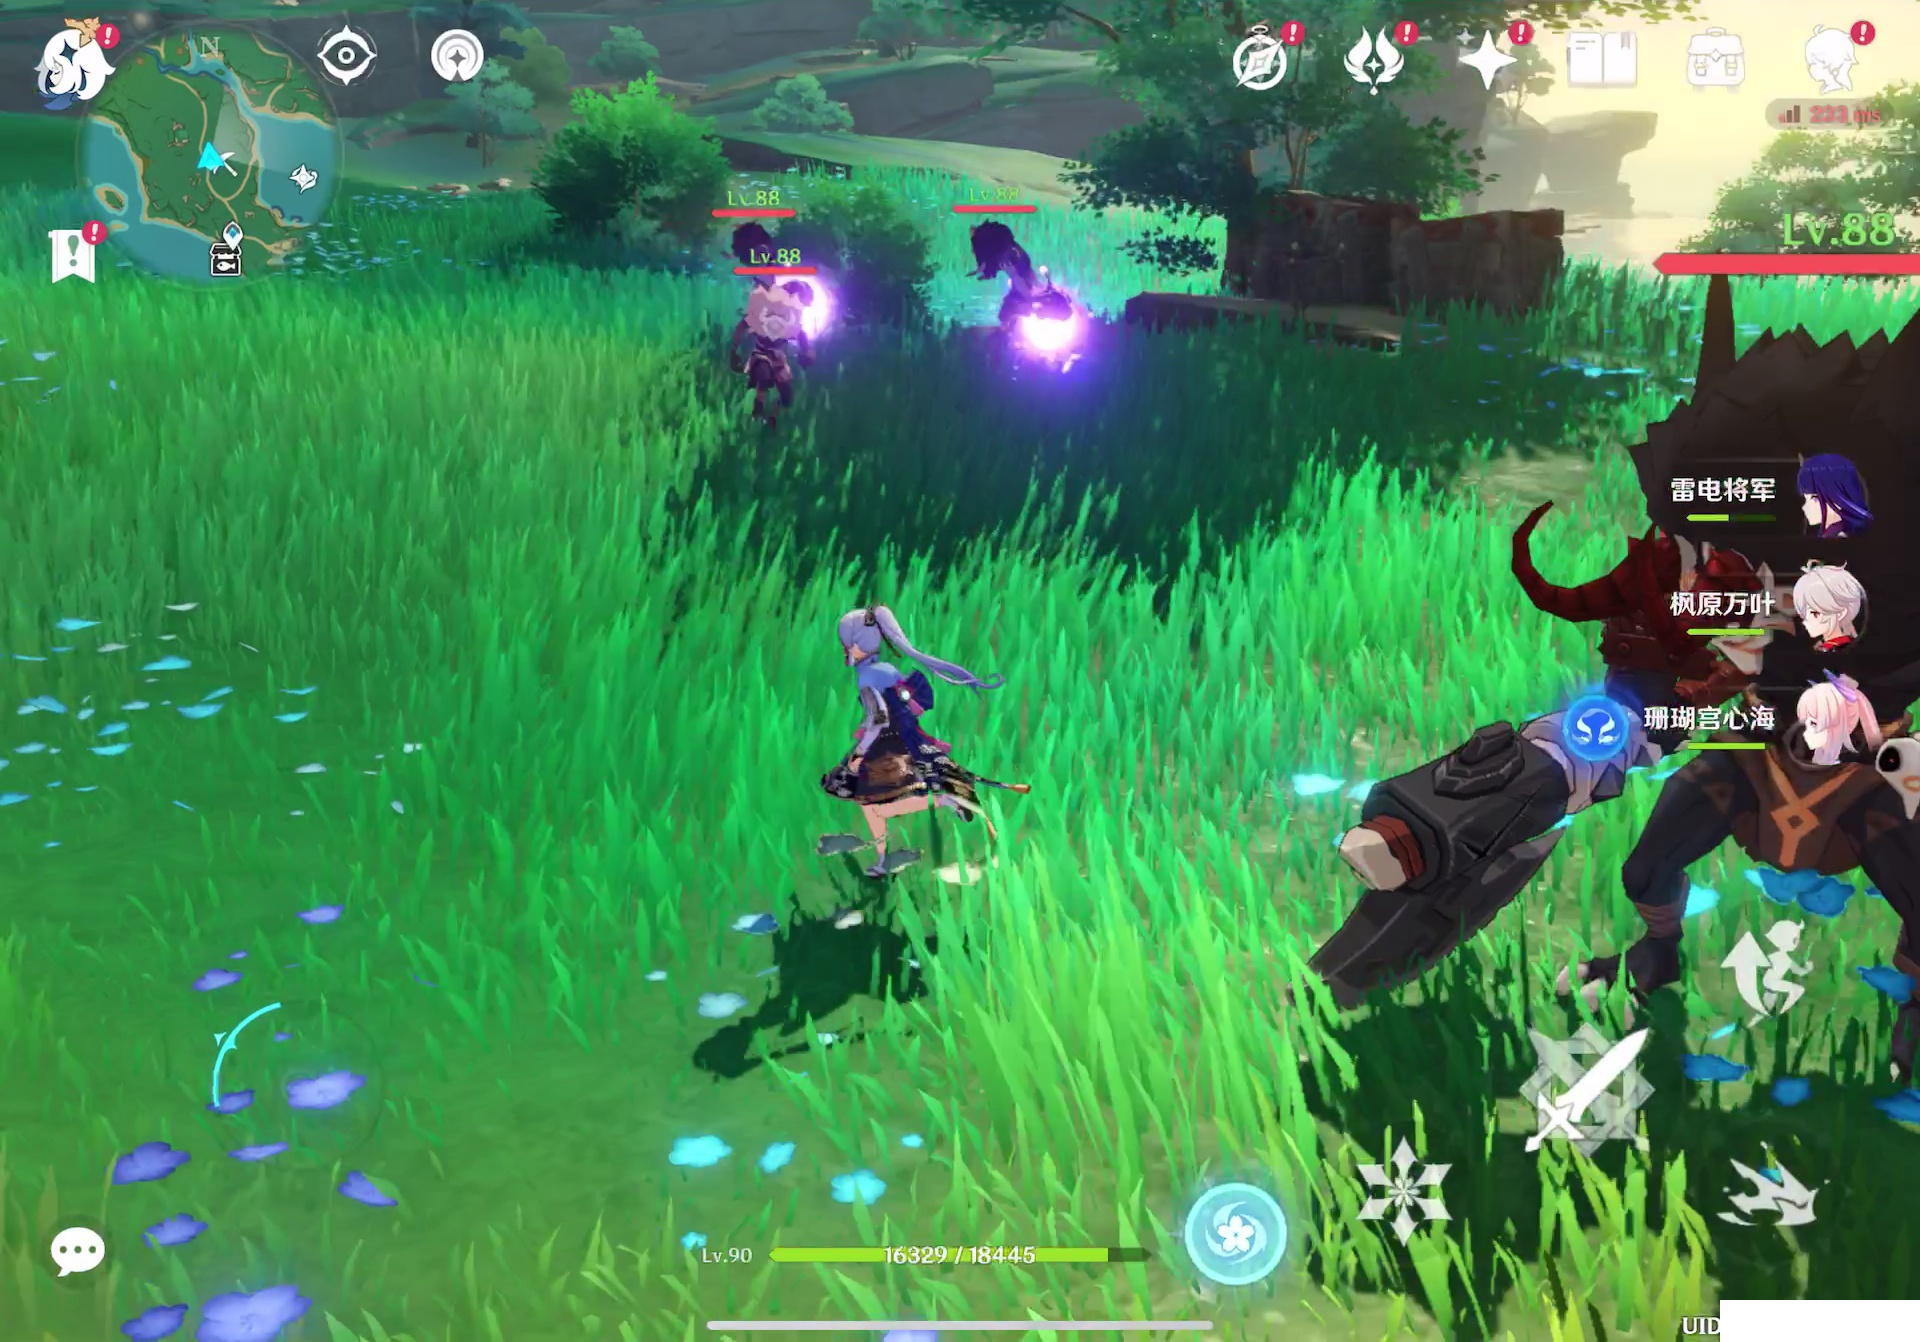丘丘人: (961, 228, 1075, 373), (725, 280, 818, 419)
神里绫龟: (821, 597, 1040, 894)
